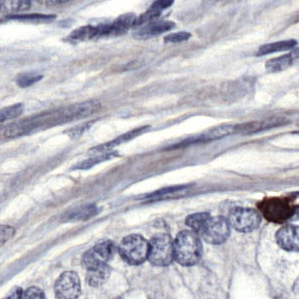Lymphocyte: (255, 195, 298, 224)
